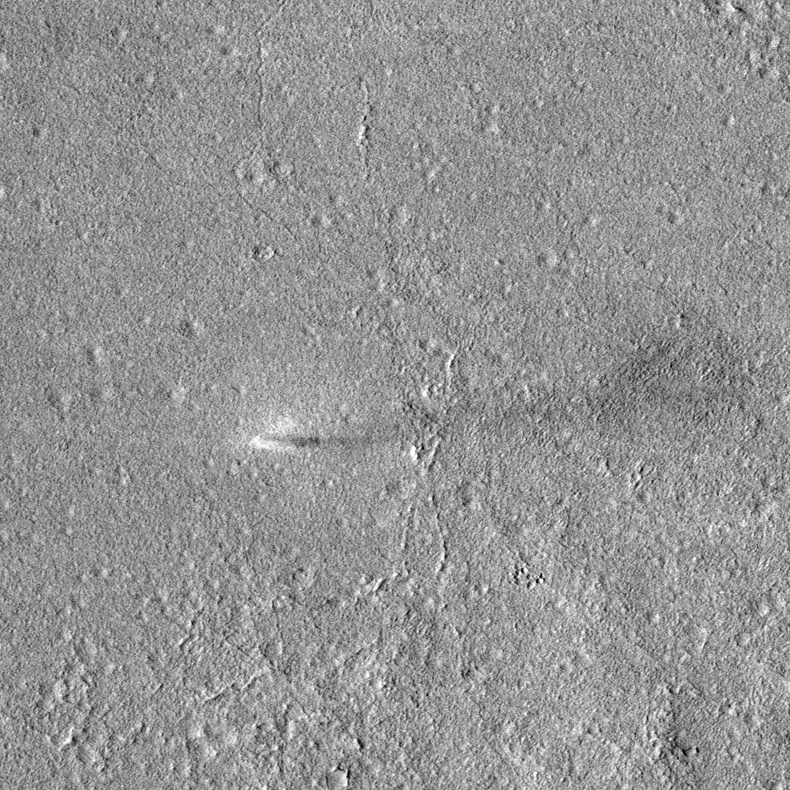dust_devil: (243, 426, 399, 458)
